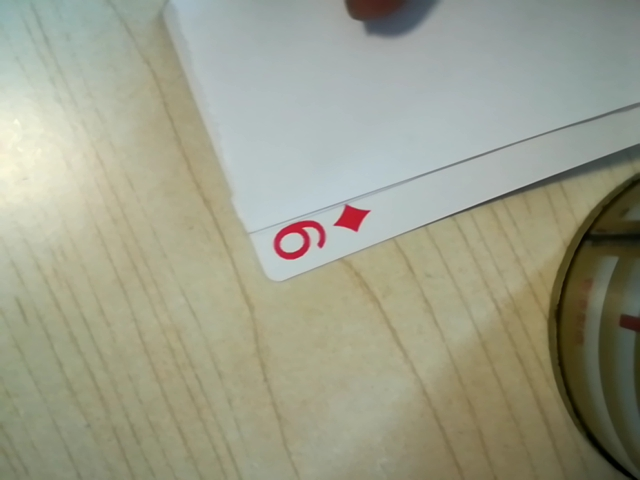fk 9: (263, 202, 362, 267)
